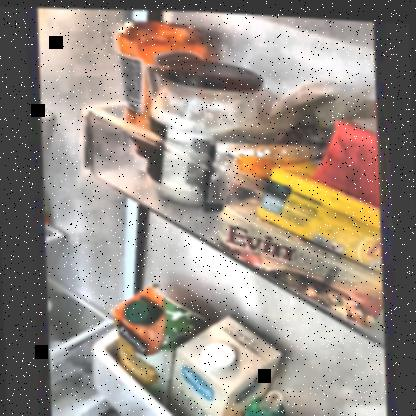butter: (236, 186, 384, 316)
milk: (178, 313, 265, 415)
